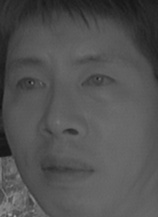eye: (78, 72, 117, 92), (13, 75, 49, 96)
mouth: (32, 149, 96, 189)
